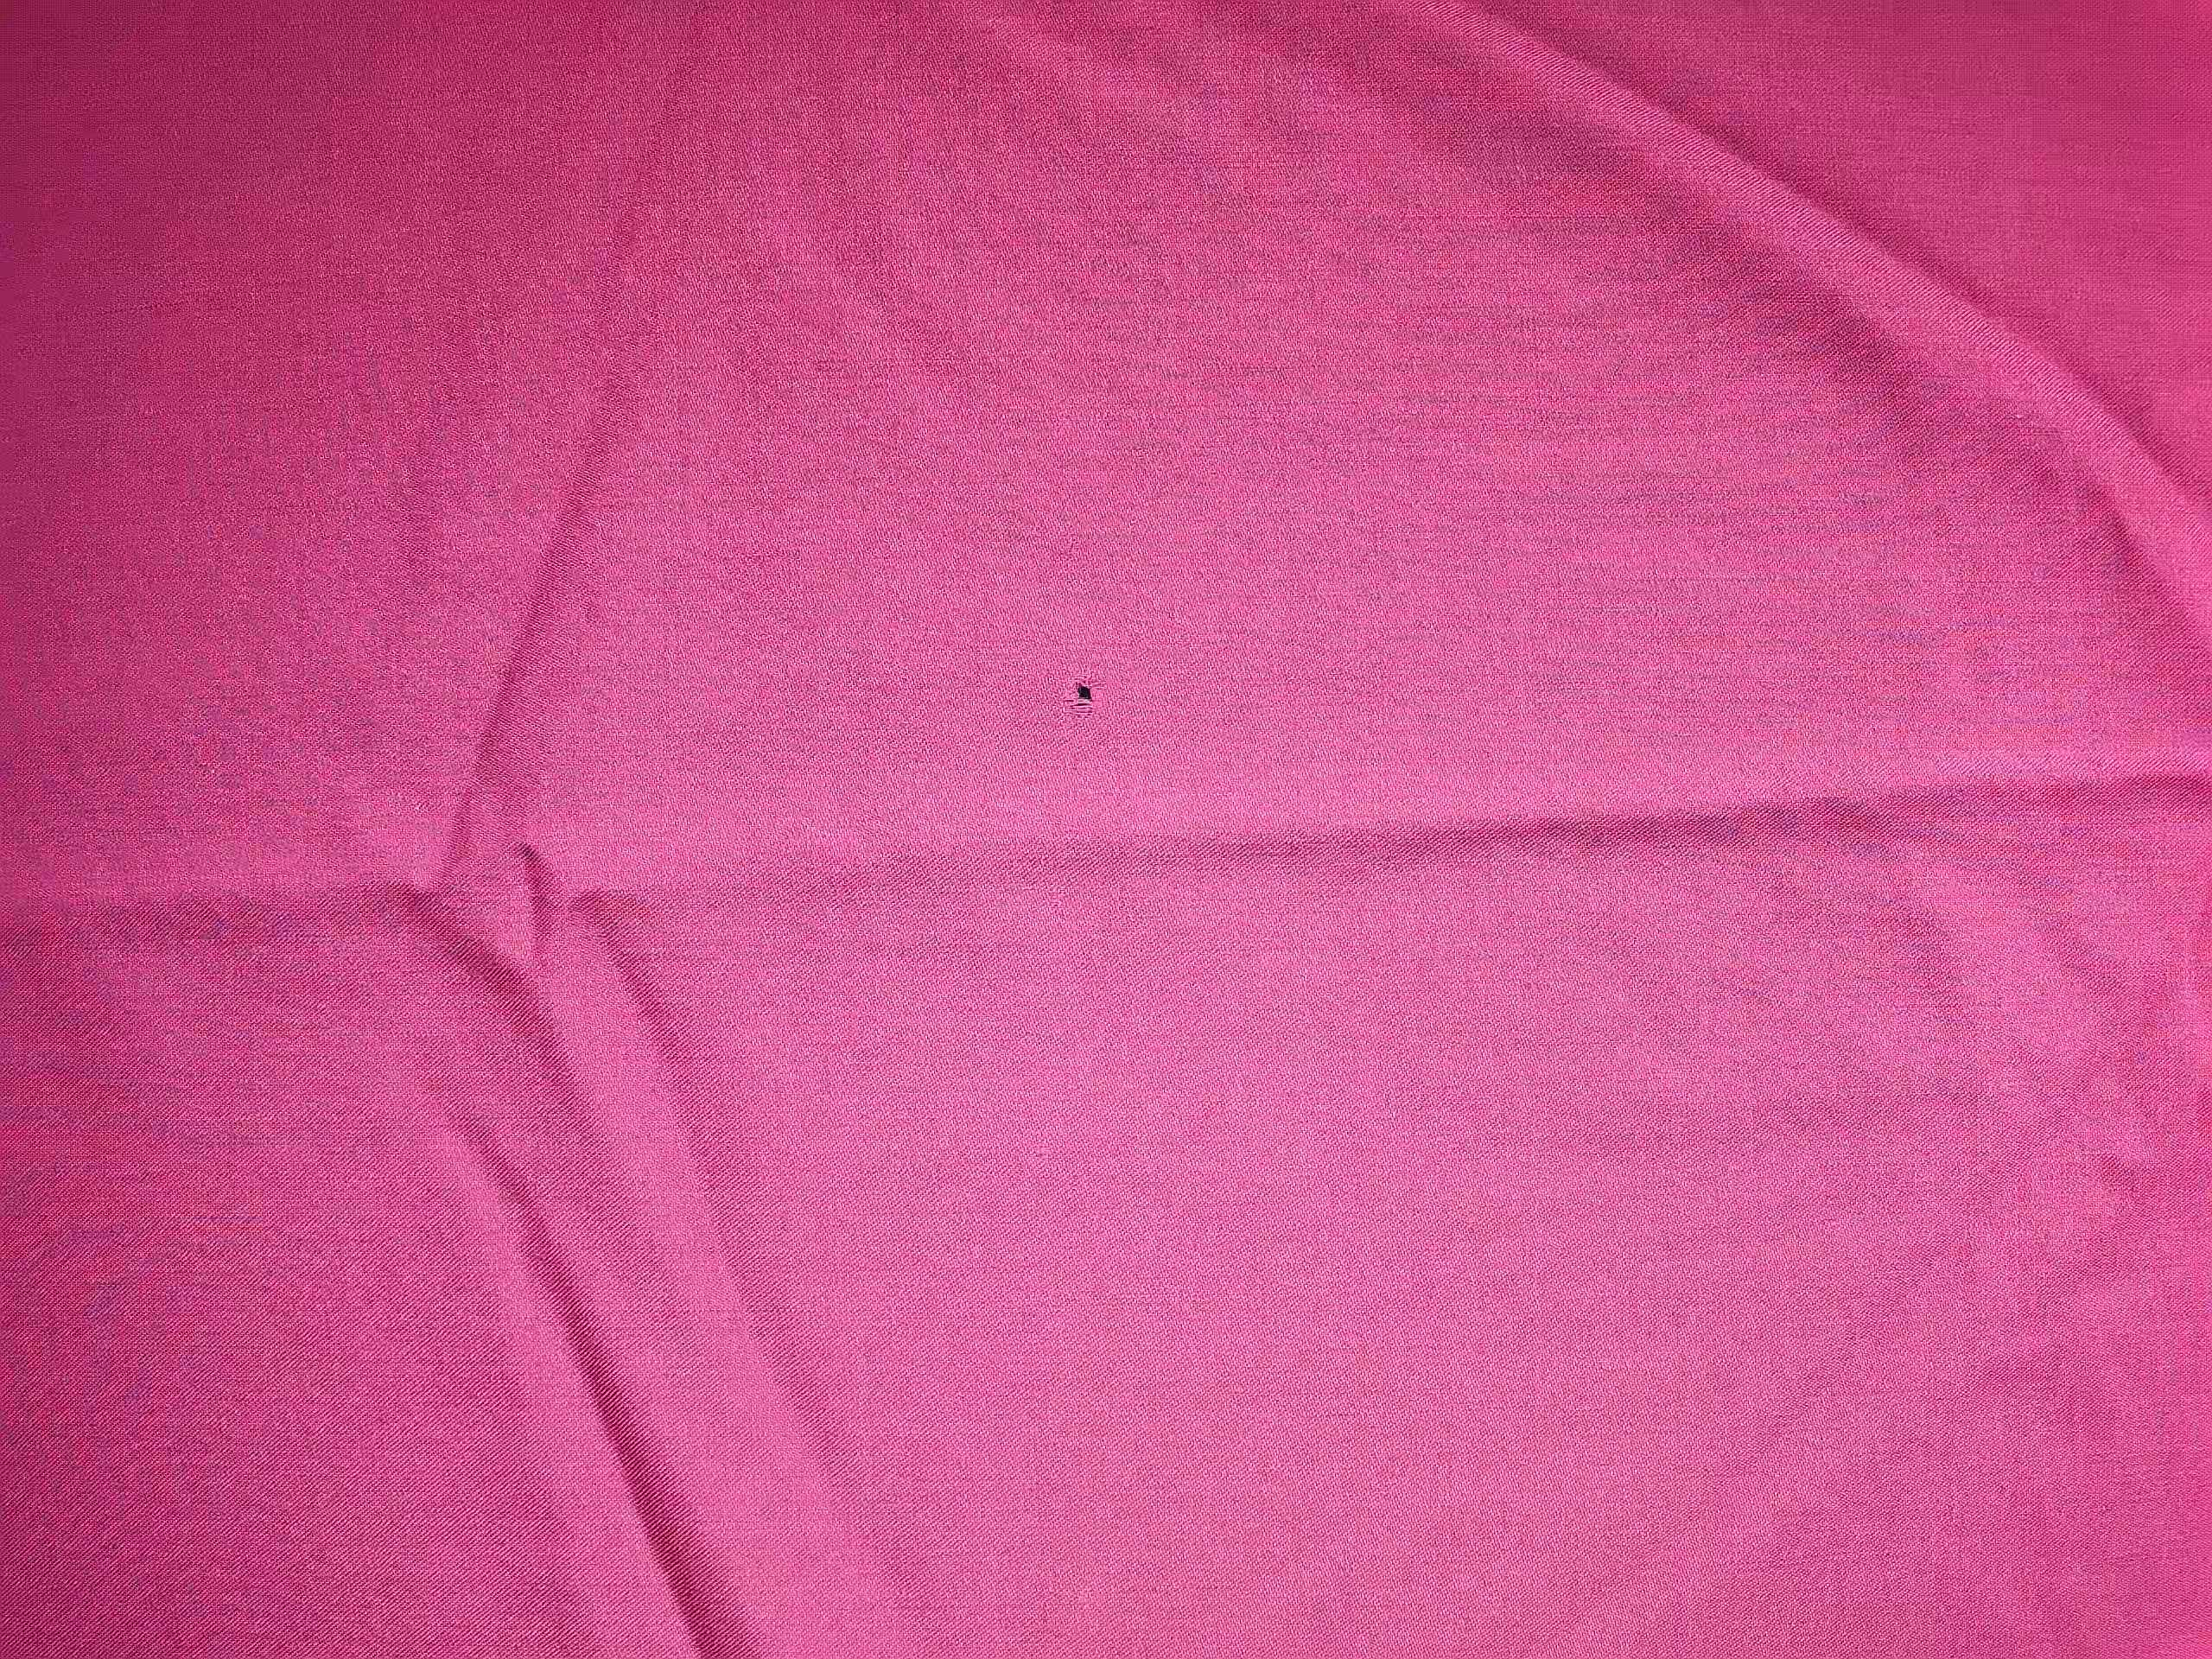rubbing-hole: (1035, 645, 1137, 742)
